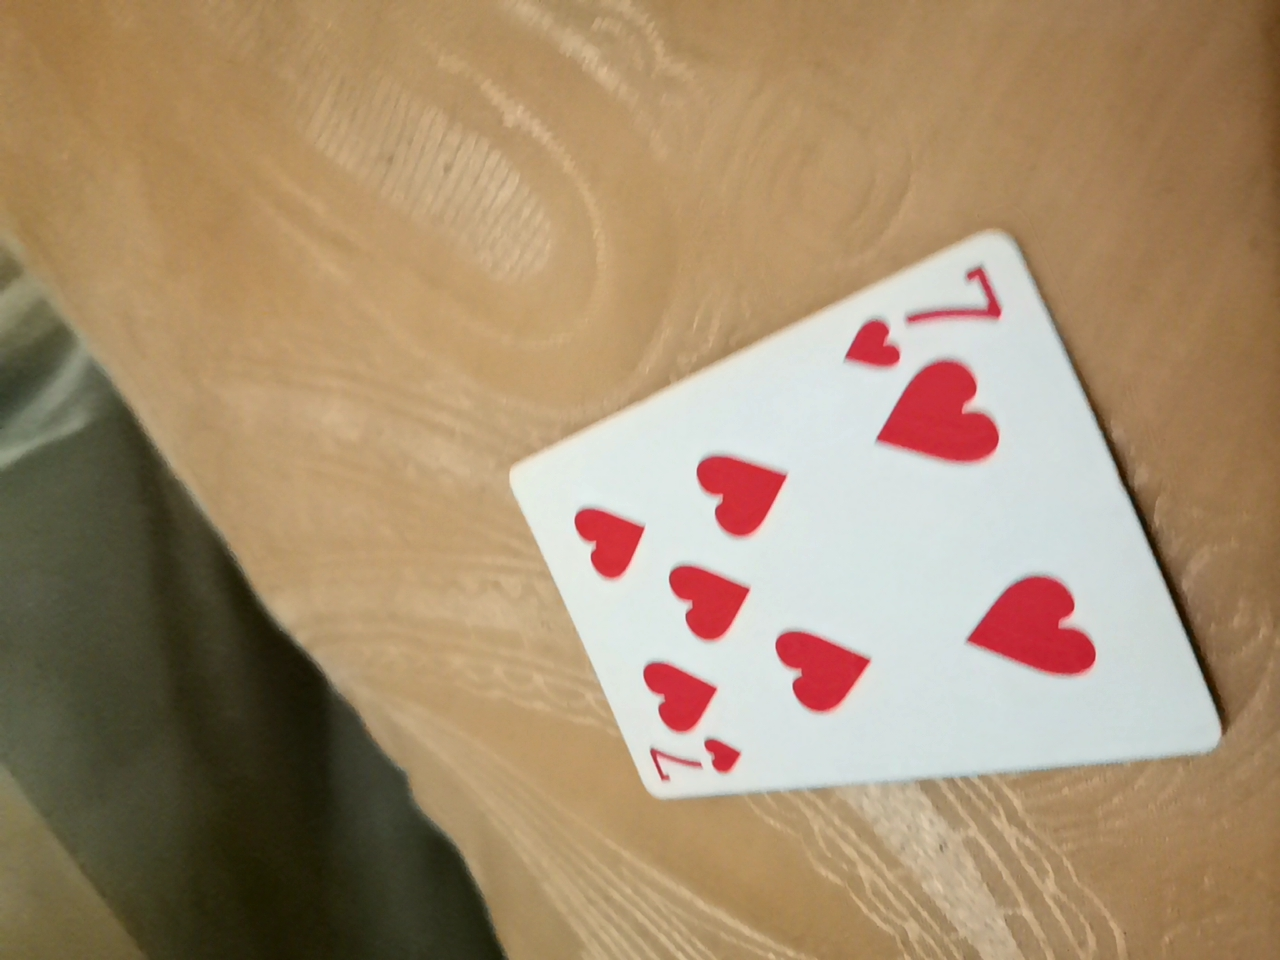hx 7: (470, 221, 1202, 826)
